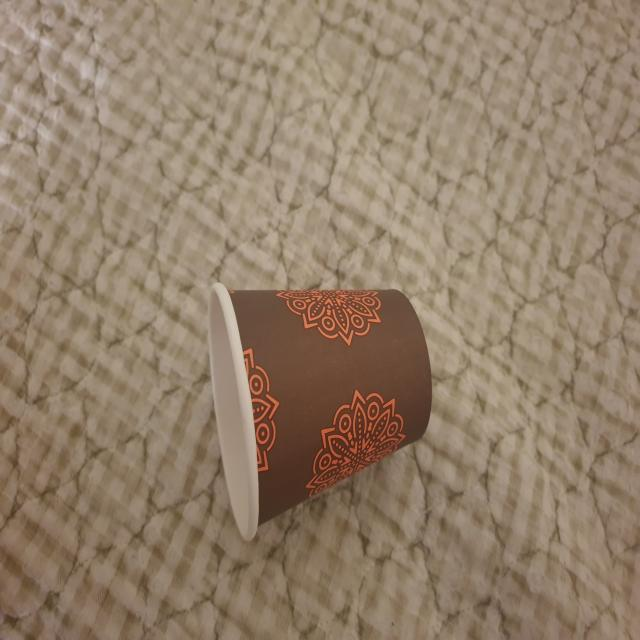cups: (202, 266, 437, 544)
